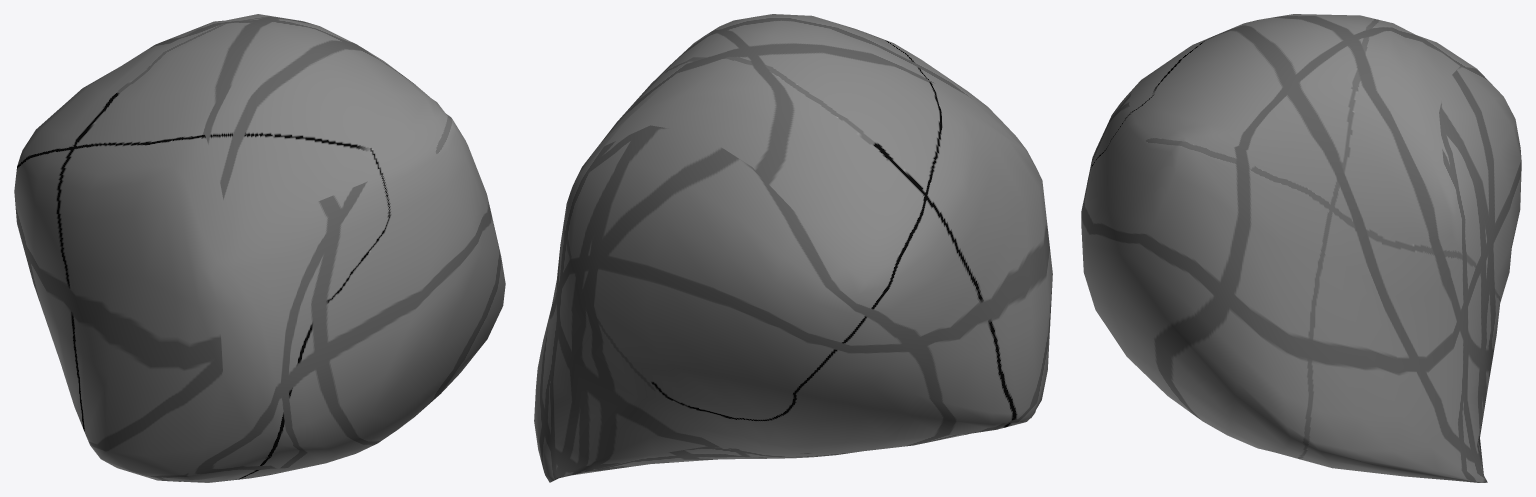
Rendered from Fake(2).fbx.
The picture shows the model from 3 angles, left to right: view 1: azimuth 30°, elevation 25°; view 2: azimuth 150°, elevation 25°; view 3: azimuth 270°, elevation 25°; orthographic projection. The views are drawn at different scales.
Parts seen in each view (by area): view 1: Cube; view 2: Cube; view 3: Cube.
Part boxes in pixels (bbox=[...]): Cube: bbox=[14, 14, 505, 482]; Cube: bbox=[534, 14, 1052, 482]; Cube: bbox=[1081, 14, 1521, 482].
Size of the model in its own units: 95.64 by 88.02 by 90.15.
